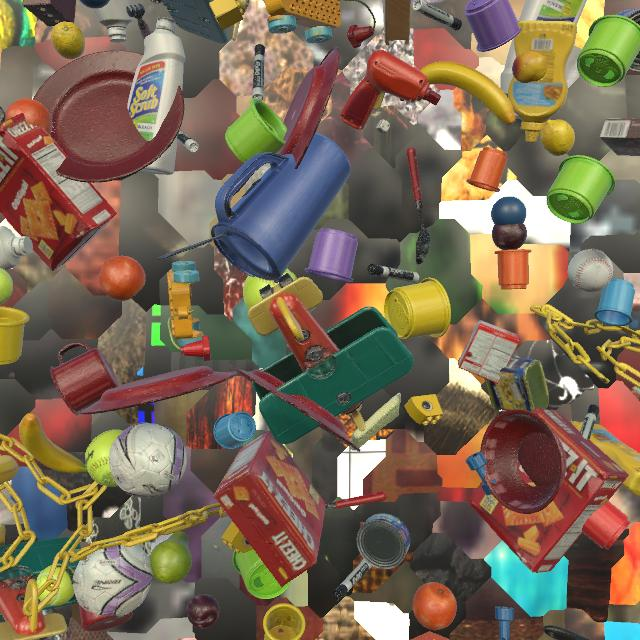ycb_002_master_chef_can: (616, 9, 640, 72)
ycb_003_cracker_box: (467, 408, 629, 573), (0, 113, 117, 271), (214, 431, 326, 587)
ycb_006_mustard_bottle: (508, 21, 577, 142), (571, 421, 640, 497)
ycb_007_tuna_fish_can: (356, 513, 410, 569), (63, 639, 74, 640)
ycb_008_pudding_box: (599, 118, 640, 156)
ycb_009_gelatin_box: (458, 320, 520, 384)
ycb_010_potted_meat_can: (484, 357, 549, 412)
ycb_011_banana: (420, 61, 516, 125), (19, 413, 88, 473), (0, 455, 19, 484)
ycb_014_lemon: (540, 119, 575, 156), (51, 22, 85, 59)
ycb_015_peach: (512, 51, 547, 83)
ycb_016_pear: (149, 531, 192, 584)
ycb_017_orange: (412, 582, 457, 630), (99, 256, 146, 301), (5, 98, 52, 135)
ycb_018_plum: (187, 594, 219, 629), (492, 223, 527, 250)
